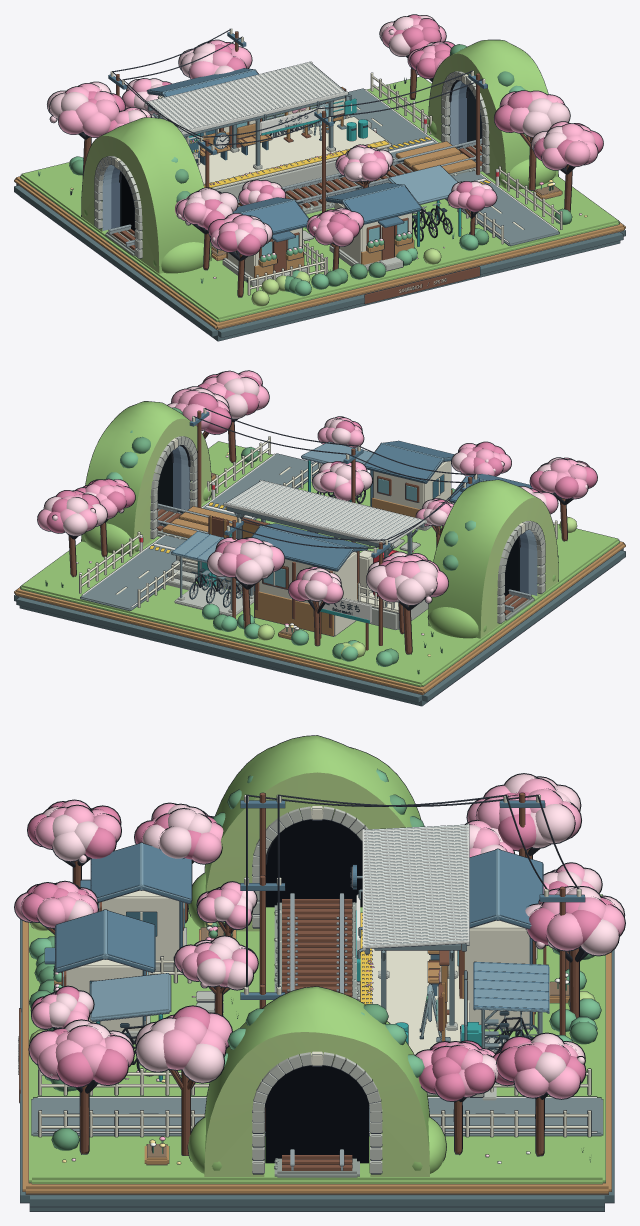
File: Static_Environment.fbx
The picture shows the model from 3 angles, top to bottom: view 1: azimuth 30°, elevation 25°; view 2: azimuth 150°, elevation 25°; view 3: azimuth 270°, elevation 25°; orthographic projection. The views are drawn at different scales.
Visible parts, largest first — view 1: Base_Mesh, Terrain_Mesh, Houses_Mesh, Platform_Canopy_Mesh, Platform_Mesh, Road_Mesh, Bushes_Mesh, Rail_Mesh, Sakura_00_Mesh, NPR_Outline_Base_Mesh, Sakura_V2_01_Mesh, Sakura_08_Mesh (+35 smaller); view 2: Base_Mesh, Terrain_Mesh, Road_Mesh, Station_Building_Mesh, Platform_Canopy_Mesh, Houses_Mesh, Bushes_Mesh, Sakura_00_Mesh, NPR_Outline_Base_Mesh, Sakura_02_Mesh, Stair_BicycleShelter_Mesh, Sakura_09_Mesh (+31 smaller); view 3: Base_Mesh, Terrain_Mesh, Houses_Mesh, Platform_Canopy_Mesh, Rail_Mesh, Road_Mesh, Station_Building_Mesh, Tunnel_Dark_Right_DepthMask, Bushes_Mesh, Tunnel_Dark_Left_DepthMask, Platform_Mesh, Sakura_V2_01_Mesh (+35 smaller).
Part boxes in pixels (x1,y1,x2,y2): Base_Mesh: [14, 76, 625, 340]; Terrain_Mesh: [81, 40, 558, 273]; Houses_Mesh: [223, 183, 421, 285]; Platform_Canopy_Mesh: [145, 61, 347, 169]; Platform_Mesh: [198, 117, 391, 197]; Road_Mesh: [303, 88, 559, 245]; Bushes_Mesh: [38, 44, 586, 306]; Rail_Mesh: [105, 138, 482, 255]; Sakura_00_Mesh: [47, 82, 124, 170]; NPR_Outline_Base_Mesh: [14, 76, 625, 341]; Sakura_V2_01_Mesh: [494, 91, 569, 190]; Sakura_08_Mesh: [531, 122, 603, 211]; Base_Mesh: [14, 441, 625, 705]; Terrain_Mesh: [81, 401, 558, 638]; Road_Mesh: [80, 453, 419, 610]; Station_Building_Mesh: [252, 523, 368, 636]; Platform_Canopy_Mesh: [224, 480, 426, 603]; Houses_Mesh: [365, 441, 533, 530]; Bushes_Mesh: [45, 407, 576, 674]; Sakura_00_Mesh: [366, 555, 448, 653]; NPR_Outline_Base_Mesh: [14, 441, 625, 706]; Sakura_02_Mesh: [207, 537, 284, 628]; Stair_BicycleShelter_Mesh: [171, 531, 253, 616]; Sakura_09_Mesh: [37, 490, 106, 576]; Base_Mesh: [18, 894, 614, 1211]; Terrain_Mesh: [188, 735, 446, 1176]; Houses_Mesh: [45, 842, 191, 1040]; Platform_Canopy_Mesh: [362, 823, 469, 1030]; Rail_Mesh: [274, 893, 359, 1177]; Road_Mesh: [31, 991, 602, 1135]; Station_Building_Mesh: [457, 849, 543, 1029]; Tunnel_Dark_Right_DepthMask: [265, 1065, 368, 1163]; Bushes_Mesh: [29, 769, 601, 1164]; Tunnel_Dark_Left_DepthMask: [266, 819, 362, 907]; Platform_Mesh: [360, 913, 496, 1100]; Sakura_V2_01_Mesh: [136, 1006, 231, 1155].
Bounding box in the file's own units: 1401 × 466 × 1237.
